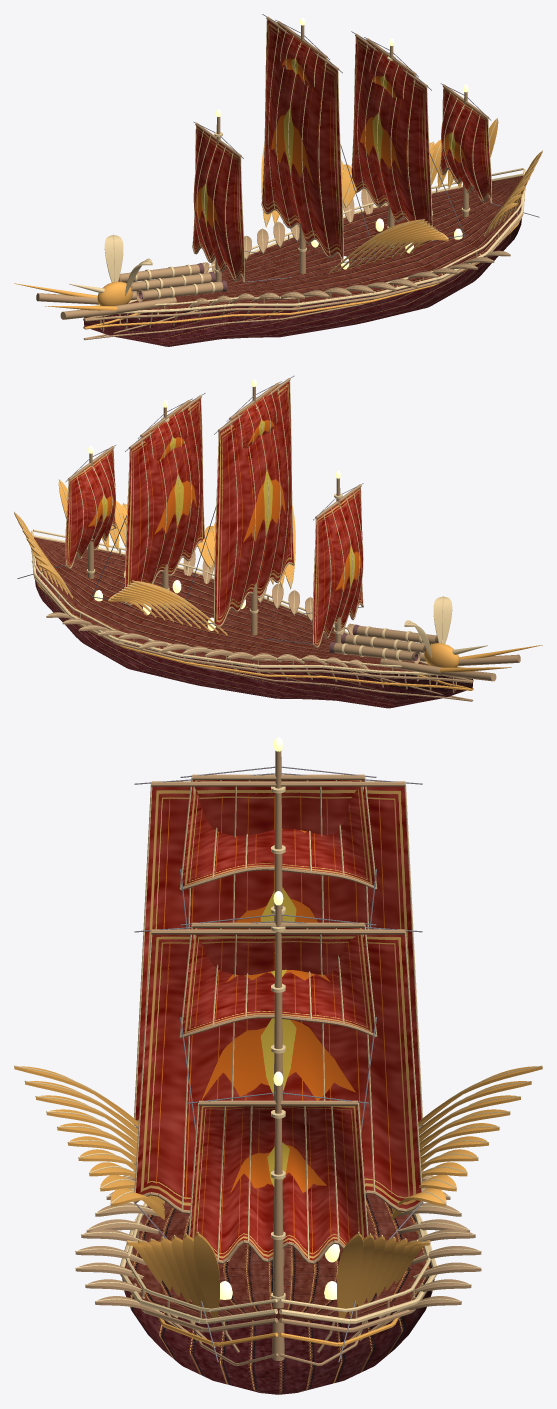
The model's file is tasarim3.glb.
3 views of the same model, one above another, from view 1: azimuth 30°, elevation 25°; view 2: azimuth 150°, elevation 25°; view 3: azimuth 270°, elevation 25° (orthographic). The views are drawn at different scales.
Parts seen in each view (by area): view 1: V14_anka_sail_3, V14_anka_deck_2, V14_anka_metal_5, V14_anka_trim_4, V14_anka_hull_1, V14_anka_accent_6, V14_anka_rope_9, V14_anka_glow_7; view 2: V14_anka_sail_3, V14_anka_deck_2, V14_anka_metal_5, V14_anka_trim_4, V14_anka_hull_1, V14_anka_accent_6, V14_anka_rope_9, V14_anka_glow_7; view 3: V14_anka_sail_3, V14_anka_metal_5, V14_anka_accent_6, V14_anka_trim_4, V14_anka_hull_1, V14_anka_deck_2, V14_anka_rope_9, V14_anka_glow_7.
Part boxes in pixels (<box>): V14_anka_sail_3: <box>193,20,491,279</box>; V14_anka_deck_2: <box>128,175,522,310</box>; V14_anka_metal_5: <box>36,16,524,340</box>; V14_anka_trim_4: <box>69,19,542,313</box>; V14_anka_hull_1: <box>84,218,521,346</box>; V14_anka_accent_6: <box>14,119,542,329</box>; V14_anka_rope_9: <box>193,14,539,282</box>; V14_anka_glow_7: <box>216,17,468,269</box>; V14_anka_sail_3: <box>66,381,362,645</box>; V14_anka_deck_2: <box>34,537,428,671</box>; V14_anka_metal_5: <box>31,378,520,701</box>; V14_anka_trim_4: <box>14,381,487,675</box>; V14_anka_hull_1: <box>35,580,472,708</box>; V14_anka_accent_6: <box>14,480,542,690</box>; V14_anka_rope_9: <box>17,375,363,643</box>; V14_anka_glow_7: <box>88,379,340,630</box>; V14_anka_sail_3: <box>135,780,421,1260</box>; V14_anka_metal_5: <box>75,750,481,1365</box>; V14_anka_accent_6: <box>14,1066,542,1346</box>; V14_anka_trim_4: <box>14,777,542,1324</box>; V14_anka_hull_1: <box>122,1215,434,1394</box>; V14_anka_deck_2: <box>125,1194,431,1320</box>; V14_anka_rope_9: <box>134,766,422,1362</box>; V14_anka_glow_7: <box>220,737,339,1299</box>.
Size of the model in its own units: 30.67 by 18.19 by 15.79.
Materials: 9 (3 with a texture image).
